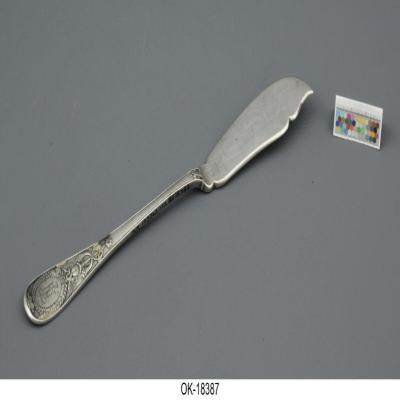dpi: (24, 78, 314, 326)
